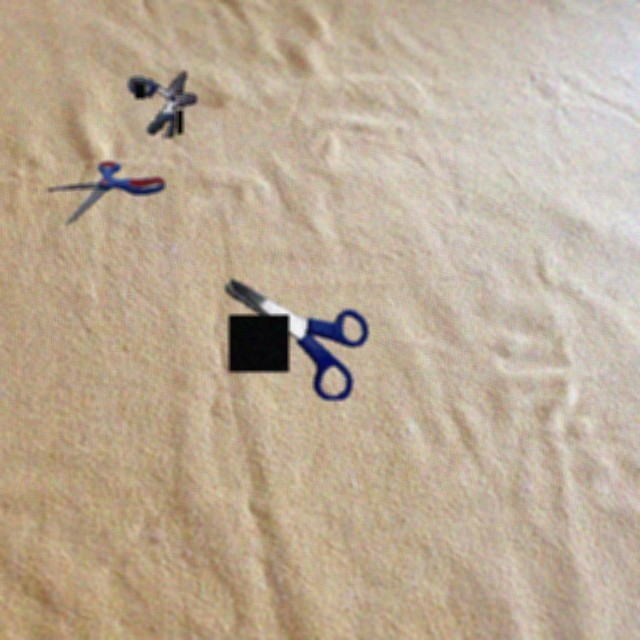scissors: (225, 278, 368, 400), (47, 161, 165, 225), (128, 71, 197, 138)
